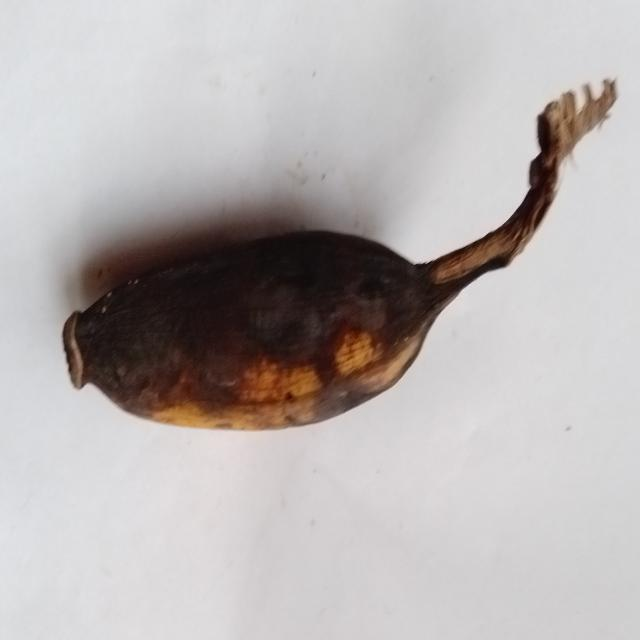banana: (64, 82, 615, 428)
